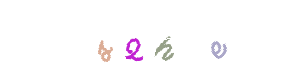2: (109, 0, 189, 80)
E: (124, 0, 204, 80)
H: (118, 0, 198, 80)
S: (93, 0, 173, 80)
